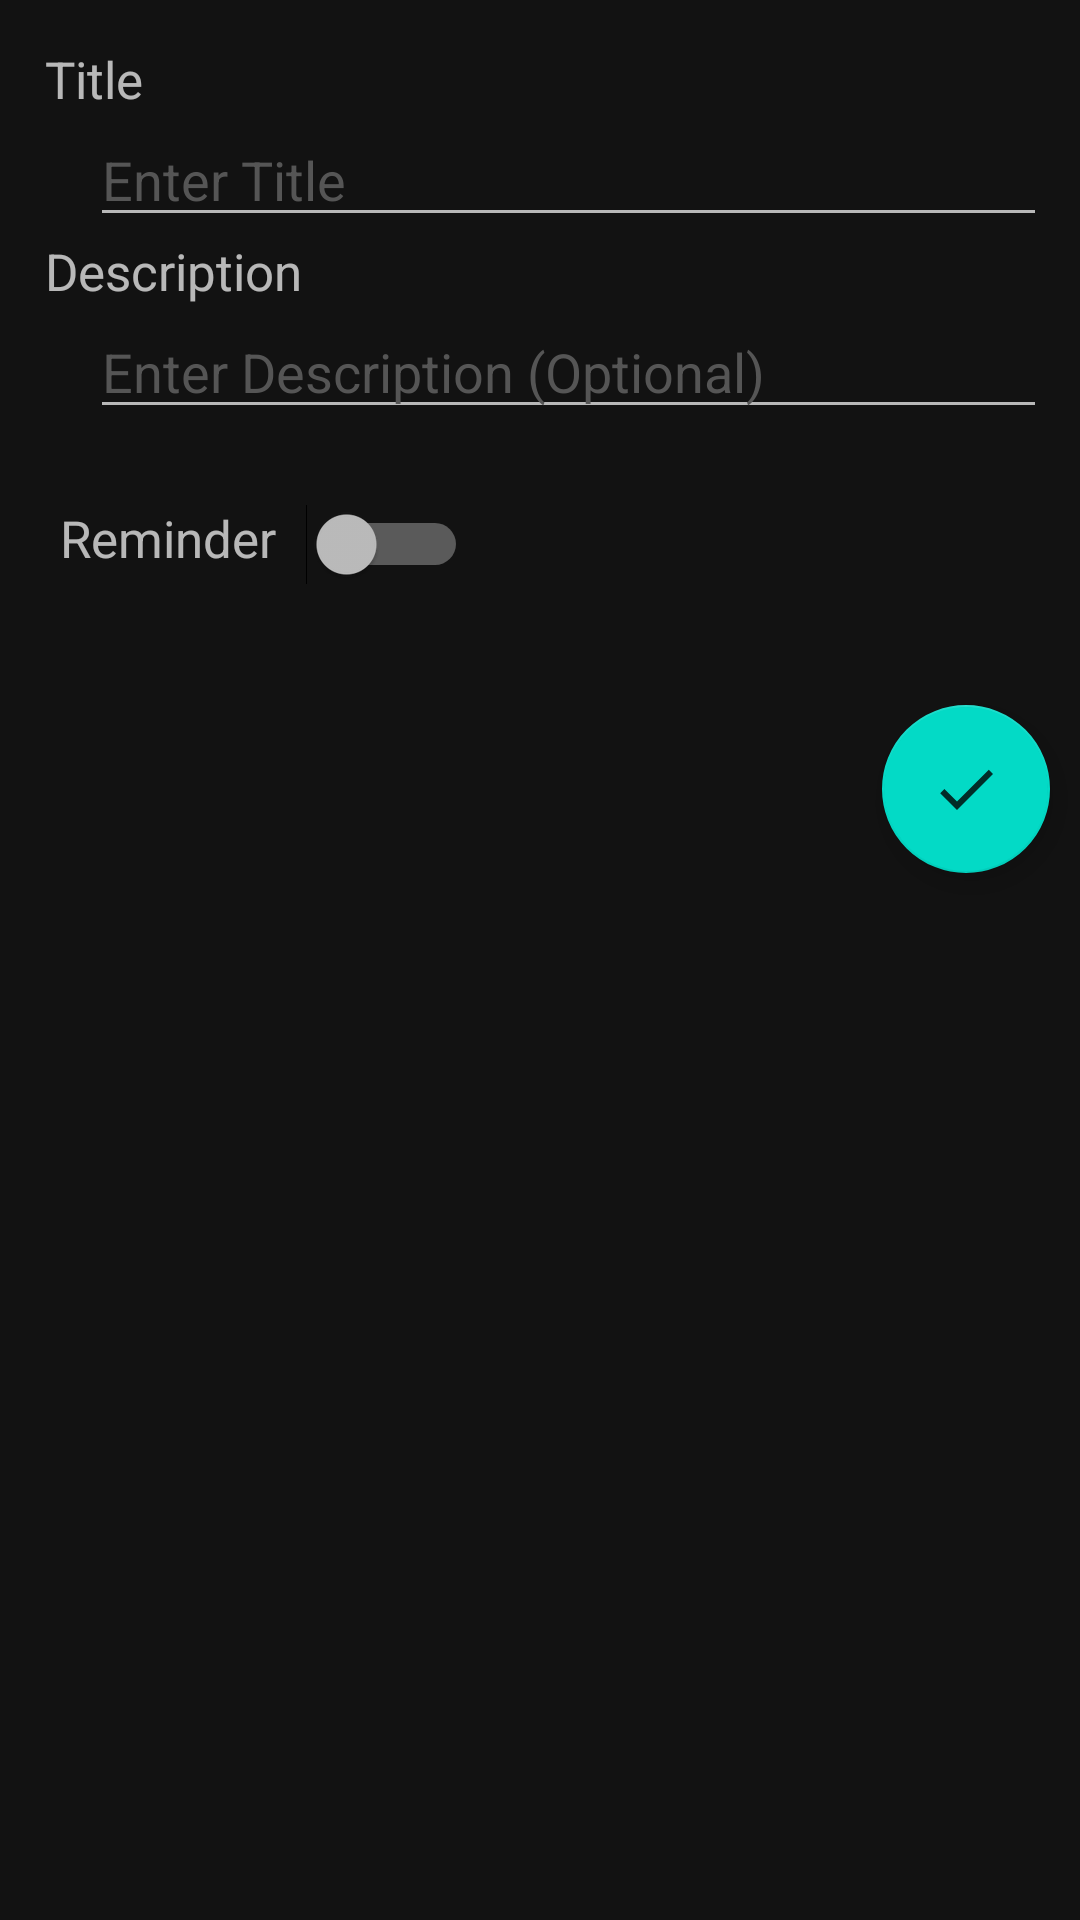

Point at icon controls on the screen. Image size 1080w x 1920h, points as (x=x, y=y).
done: (x=966, y=789)
